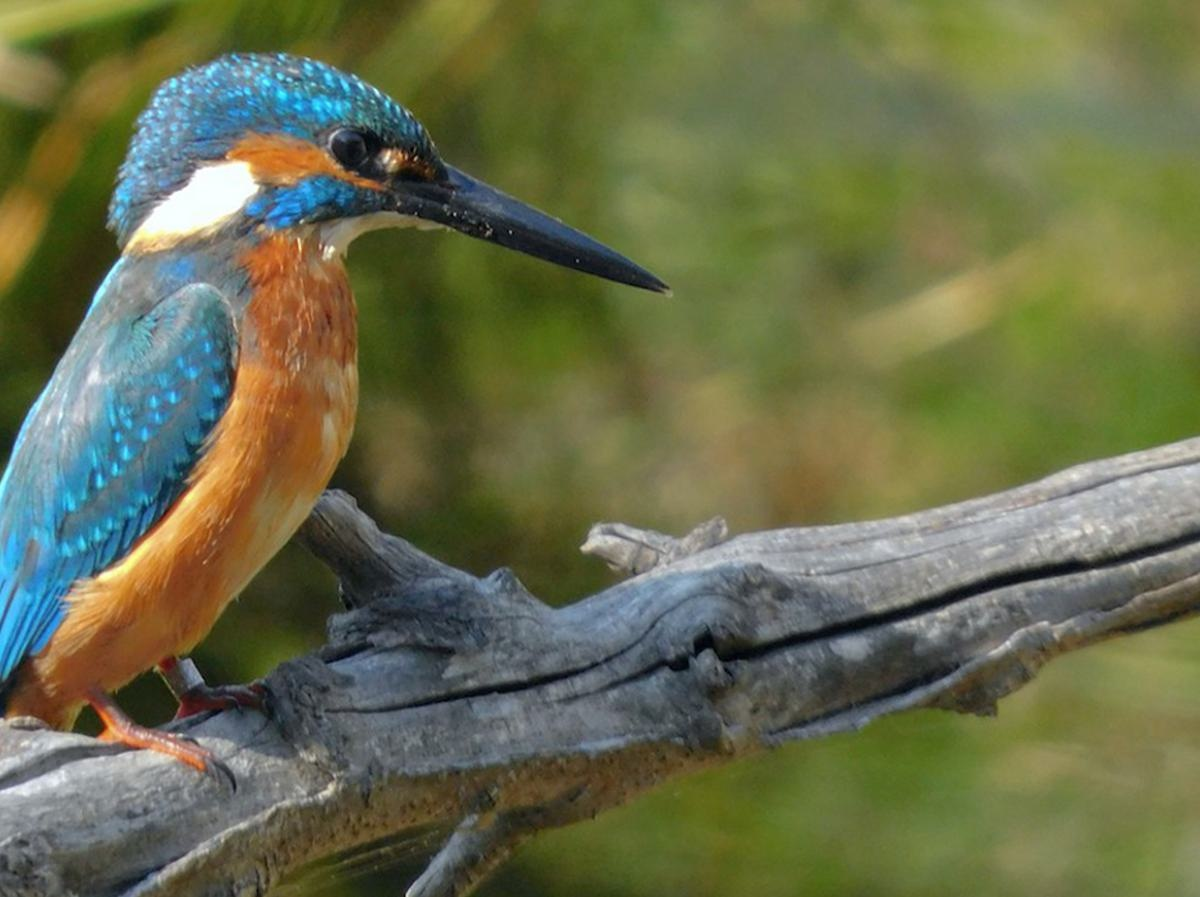kingfisher: (1, 53, 679, 727)
